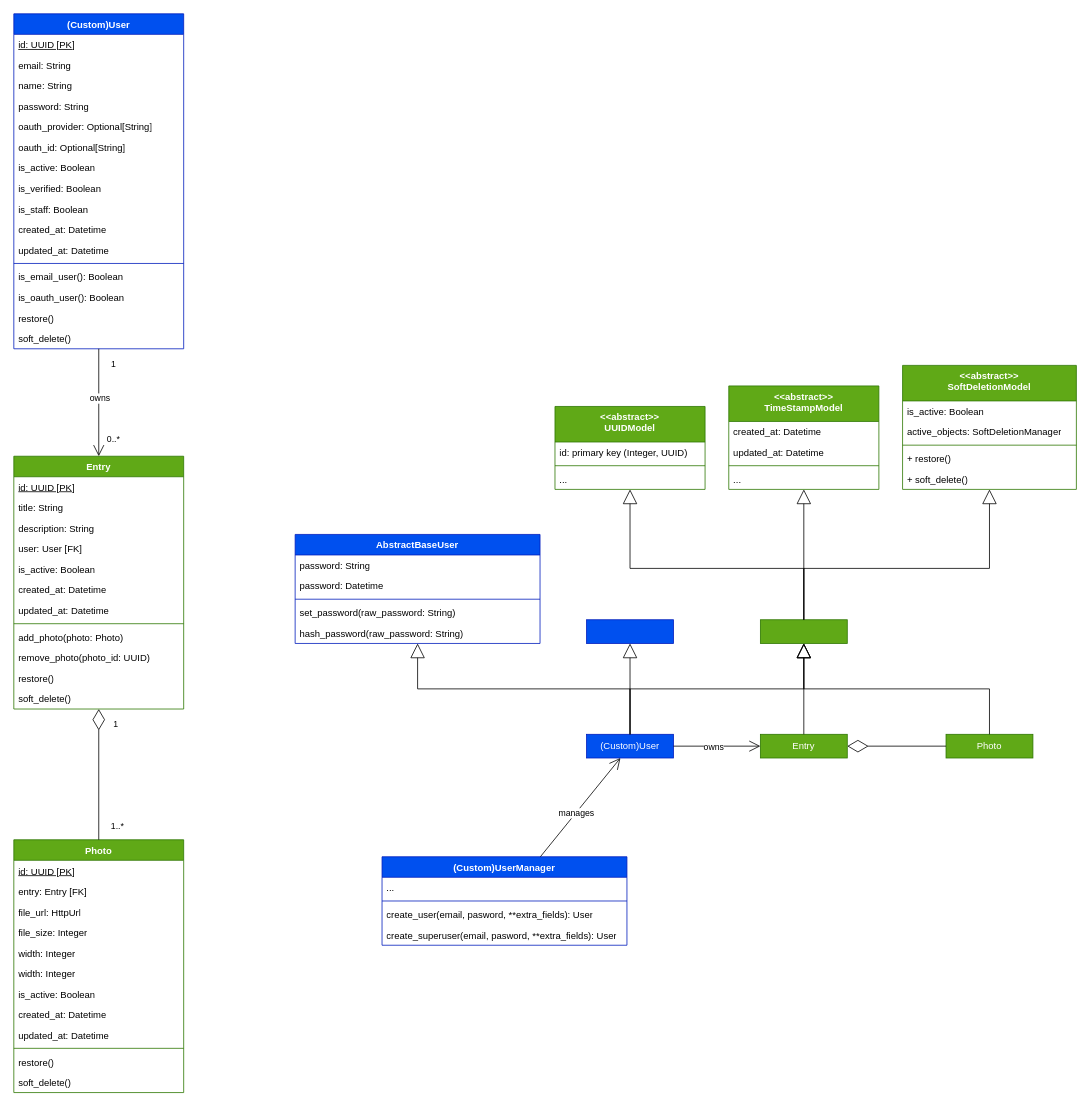
Image size: 1090x1108. Some labels were removed from this diagram. Each missing label, with the centre of its shape:
BaseModel: point (803, 631)
PermissionMixin: point (629, 631)
